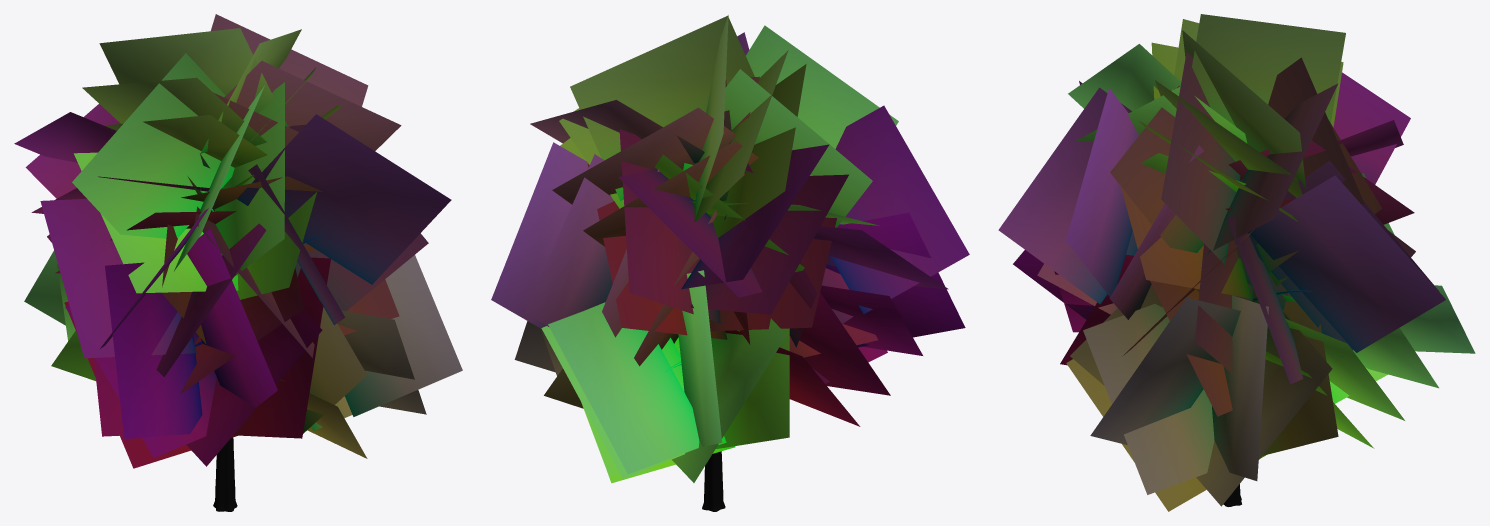
The model's file is URP_Tree_2_LOD_0.fbx.
3 views of the same model, side by side, from view 1: azimuth 30°, elevation 25°; view 2: azimuth 150°, elevation 25°; view 3: azimuth 270°, elevation 25° (orthographic).
Parts seen in each view (by area): view 1: Tree_1_LOD_0; view 2: Tree_1_LOD_0; view 3: Tree_1_LOD_0.
Boxes of the visible parts, x1=… form: Tree_1_LOD_0: x1=14, y1=14, x2=462, y2=511; Tree_1_LOD_0: x1=491, y1=15, x2=969, y2=511; Tree_1_LOD_0: x1=998, y1=14, x2=1475, y2=511.
Size of the model in its own units: 472 by 579 by 513.
